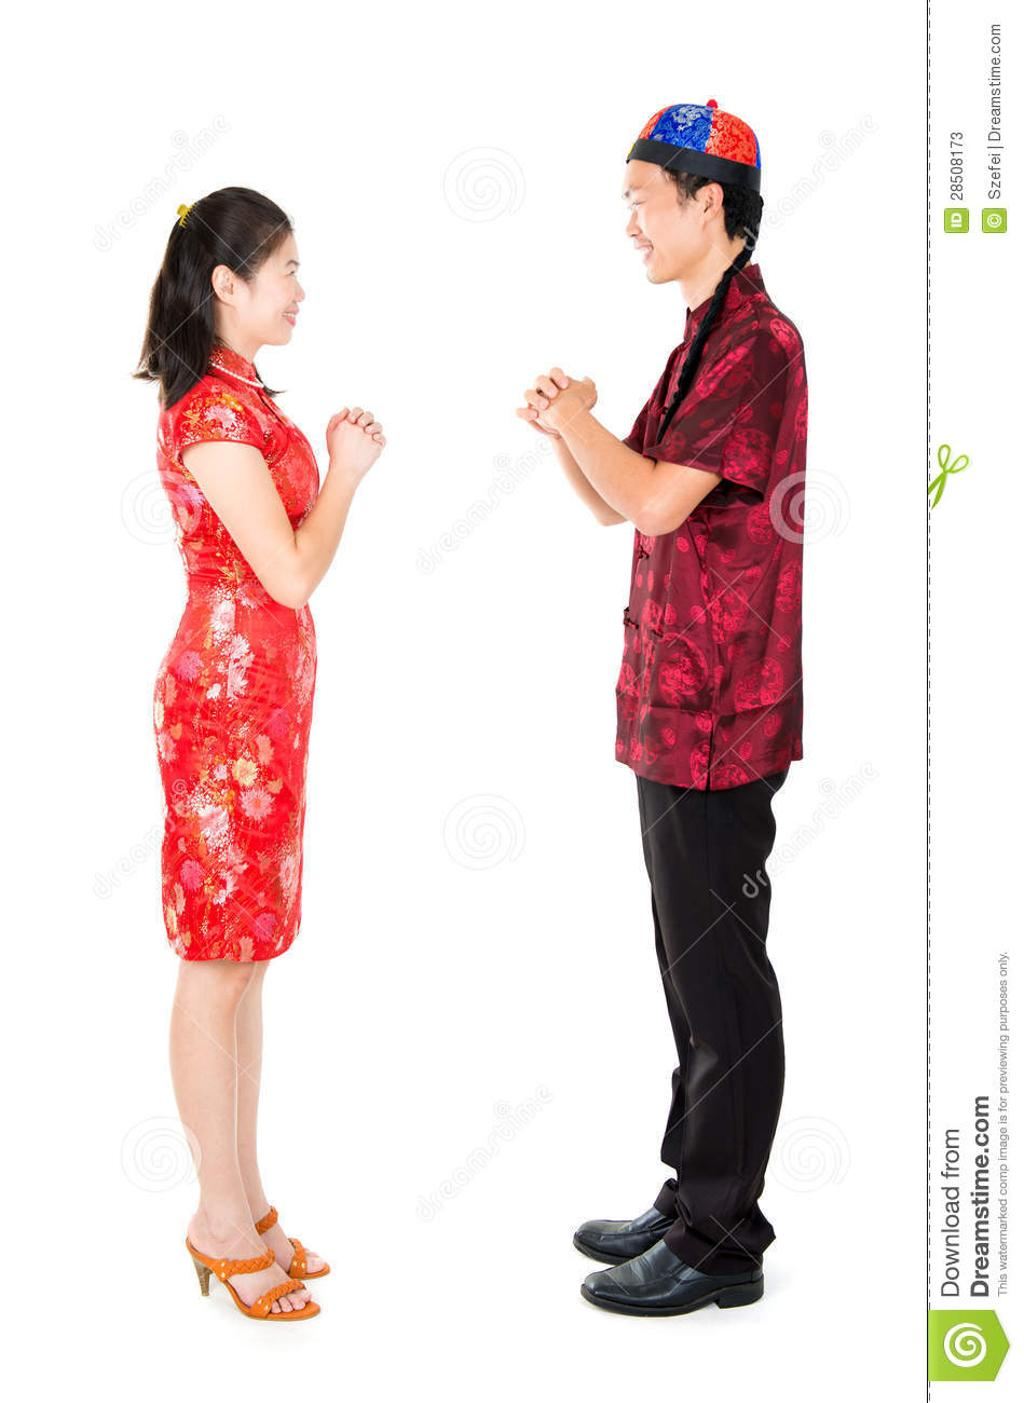face: (627, 142, 701, 282), (249, 225, 306, 345)
